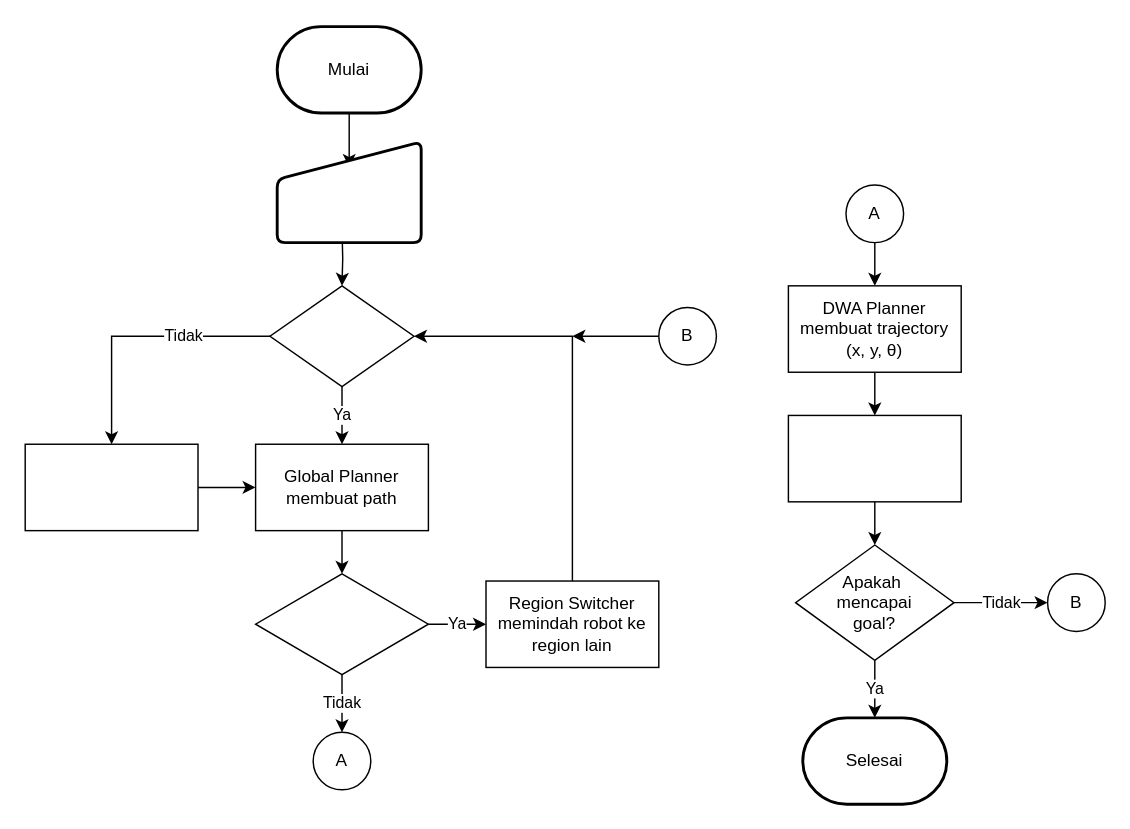
Image size: 1130x829. Some labels were removed from this diagram. Each missing label, with the centre of its shape:
"goal di region sama?" belongs at point (341, 335).
"Menerima Navigation Goal" belongs at point (348, 191).
"Path Router memberi goal perantara" belongs at point (111, 487).
"Robot di cost transisi?" belongs at point (341, 623).
"Trajectory dijalankan robot" belongs at point (874, 458).
